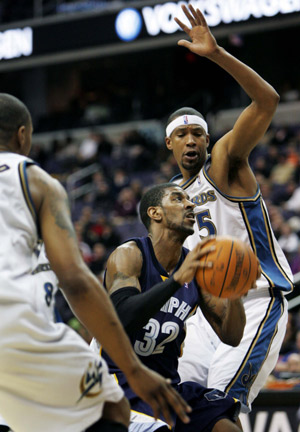basketball: (196, 235, 259, 300)
